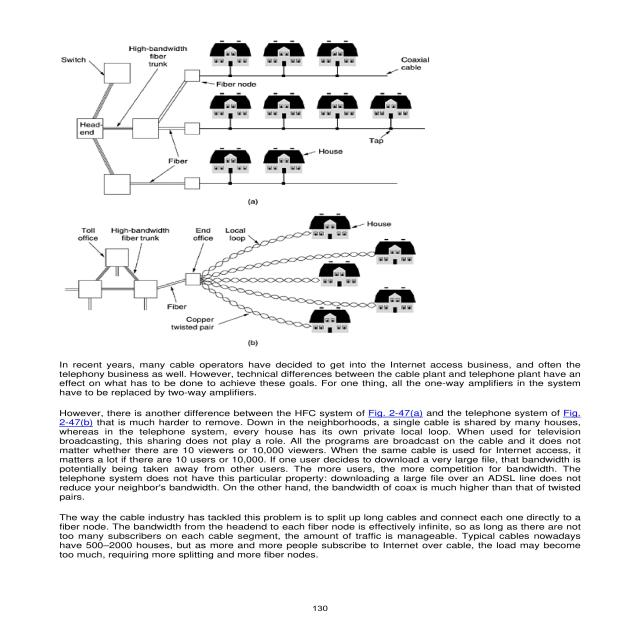diagram: (49, 25, 565, 352)
